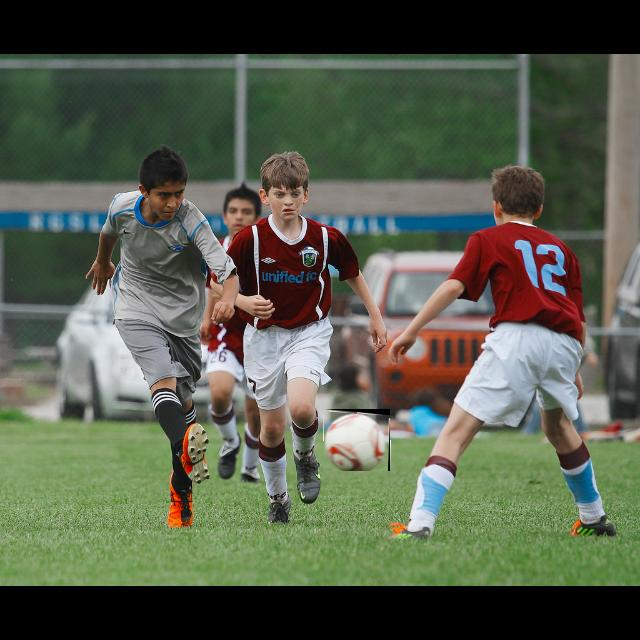Football: (324, 409, 390, 471)
